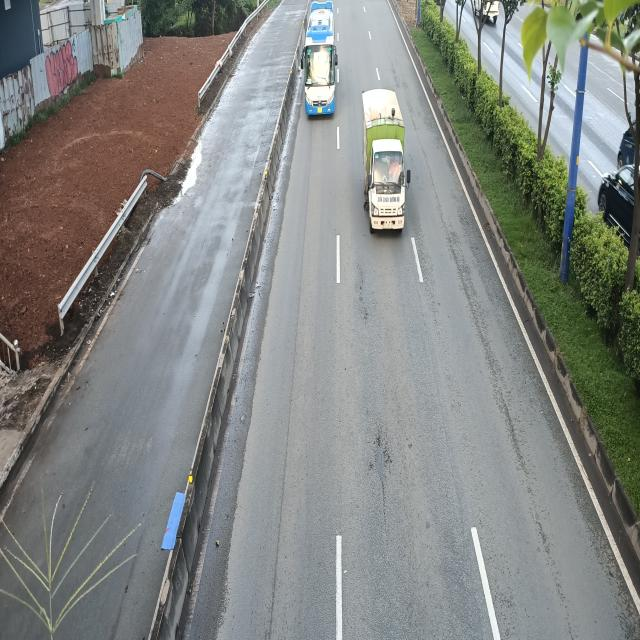coach: (298, 0, 337, 120)
truck: (361, 88, 410, 232)
